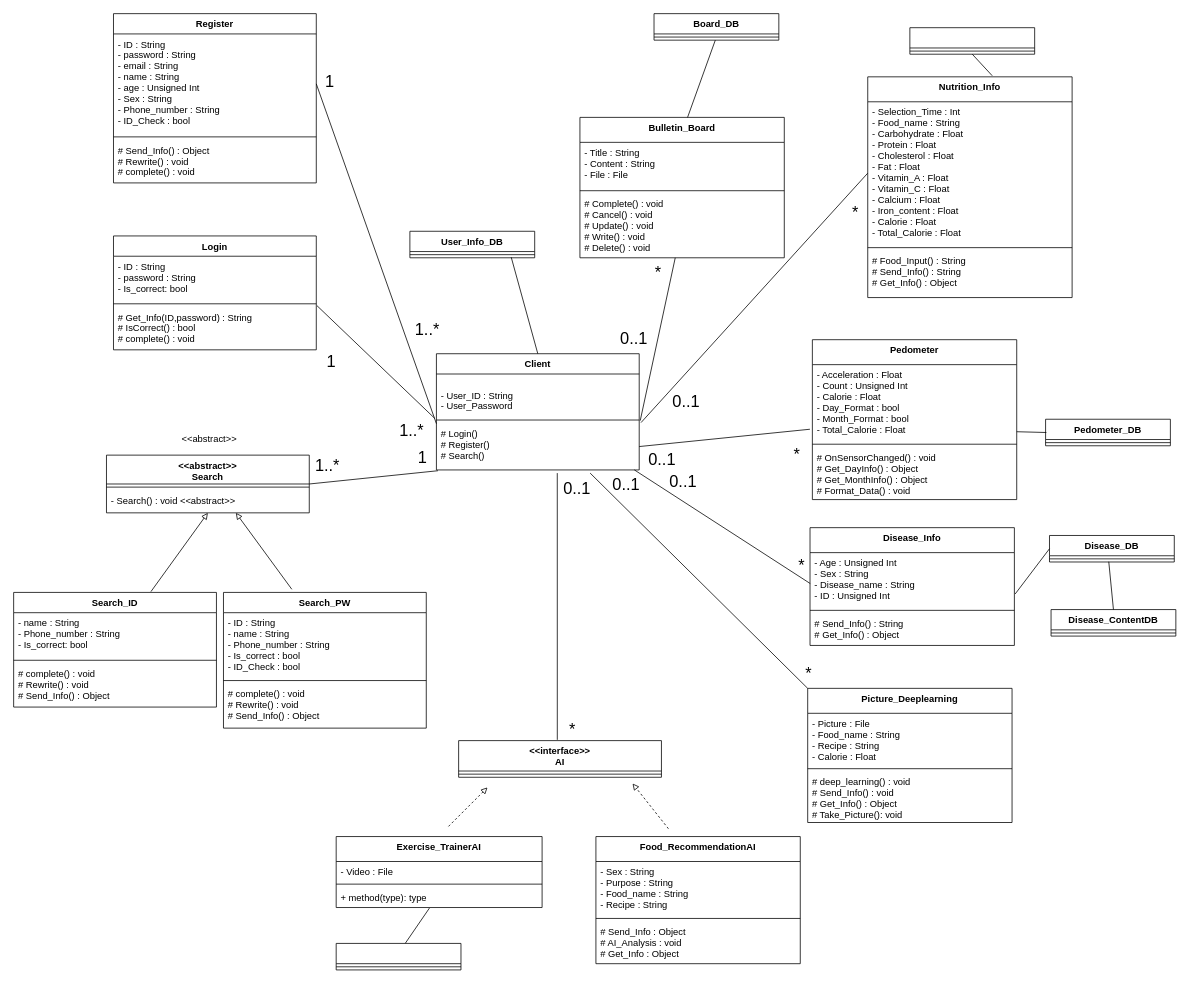
Image size: 1190x984. Some labels were removed from this diagram. The shapes that lost their labels are listed below. From the top down, each one's centre as x and y in pixels, then its label:
pixel 972 40: Nutrition_DB
pixel 398 956: AITrainer_DB
